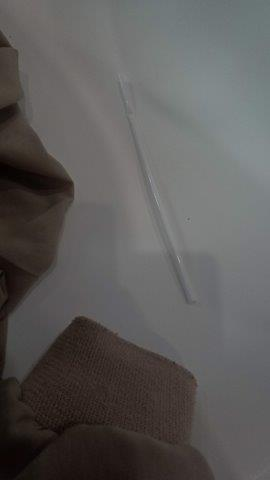sedotan: (118, 76, 194, 302)
